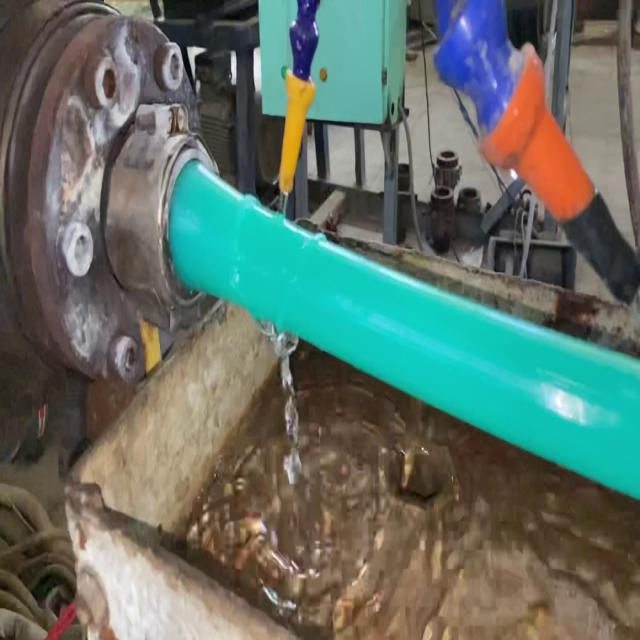leak: (258, 320, 301, 484)
